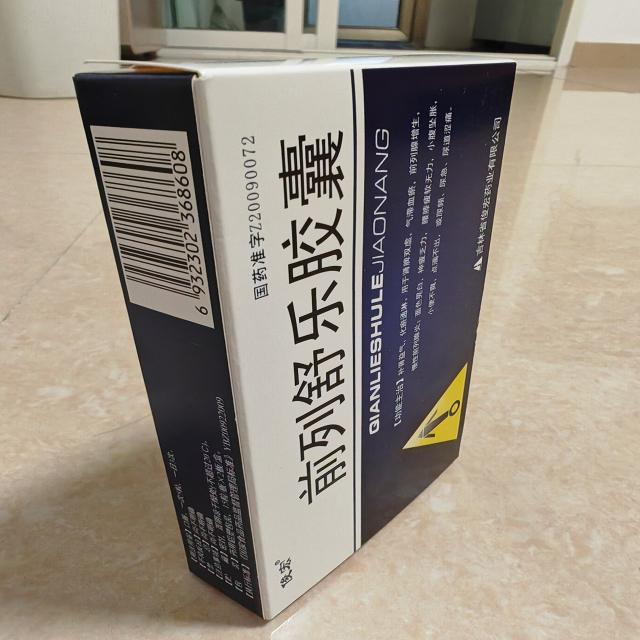box: (66, 47, 531, 626)
